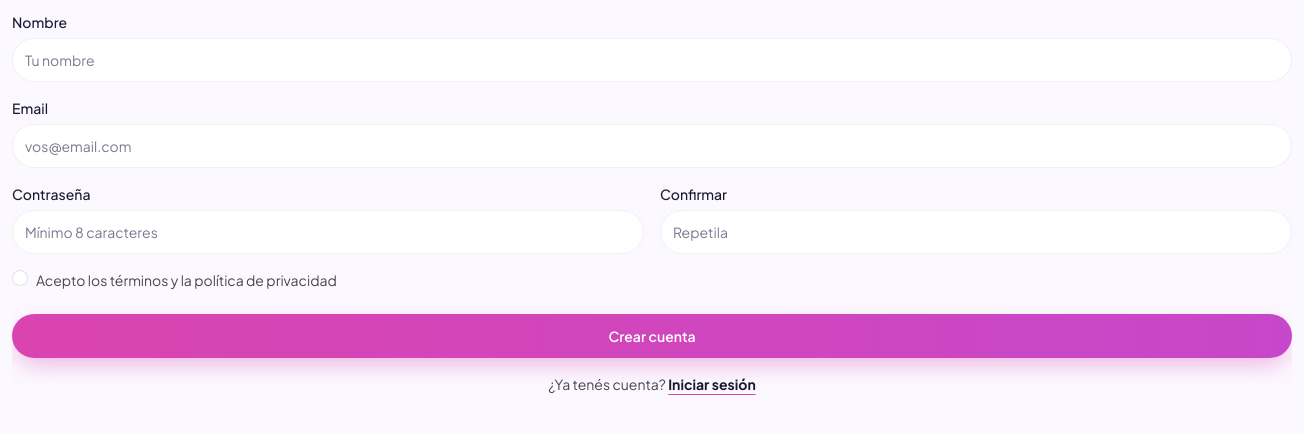
Scenario: RegisterForm › password y confirmPassword distintos muestran error
Type "Test User" into the field labelled "Nombre" at [652, 60], box [12,38,1292,82]
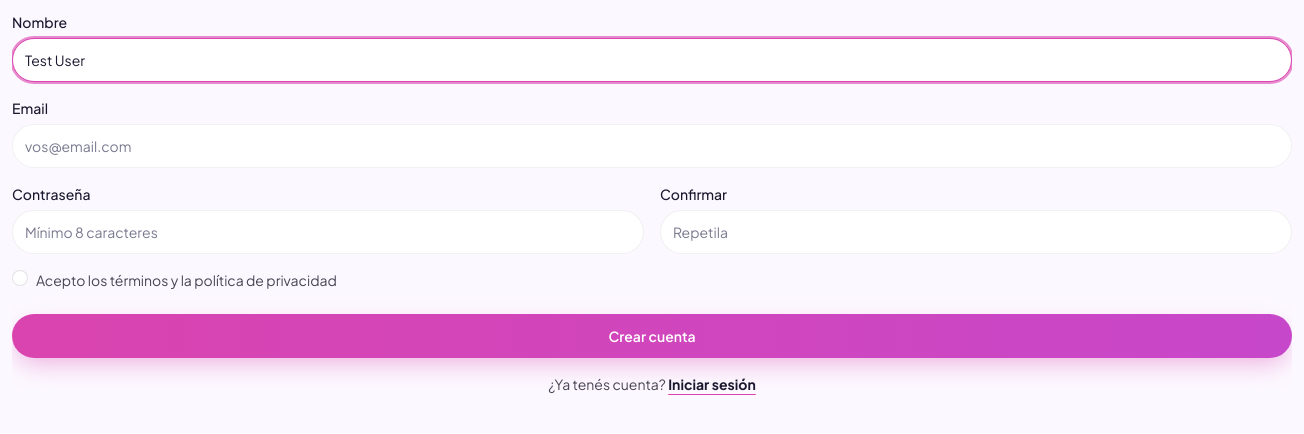
Type "test@sugarcoach.app" into the field labelled "Email" at [652, 146], box [12,124,1292,168]
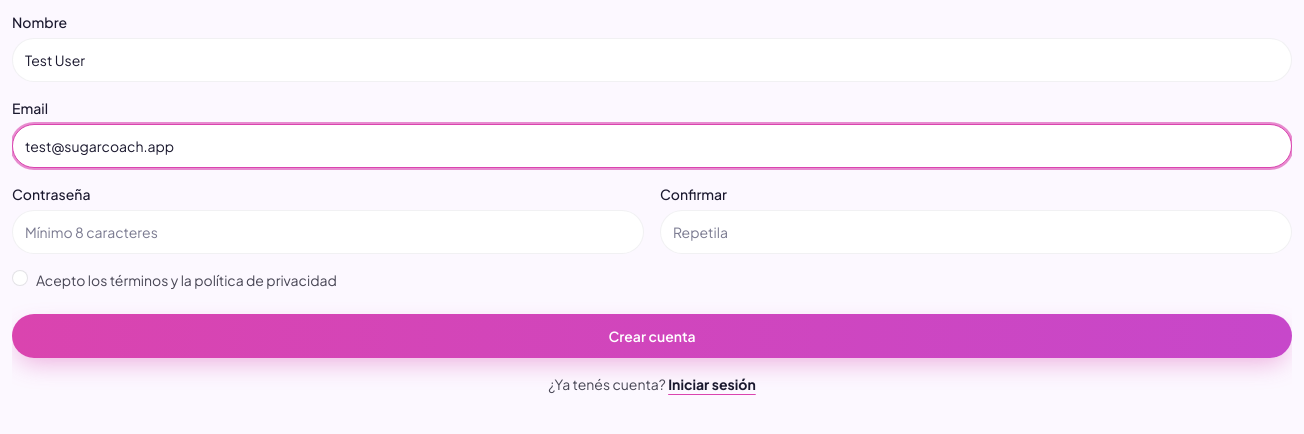
Type "password123" into the password field labelled "Contraseña" at [328, 232], box [12,210,644,254]
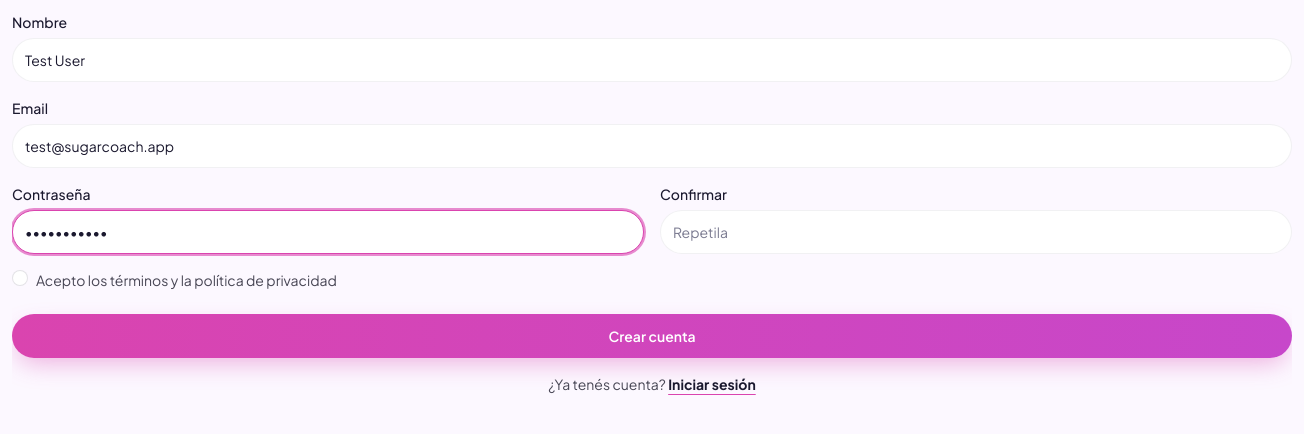
Type "otra-clave-123" into the password field labelled "Confirmar" at [976, 232], box [660,210,1292,254]
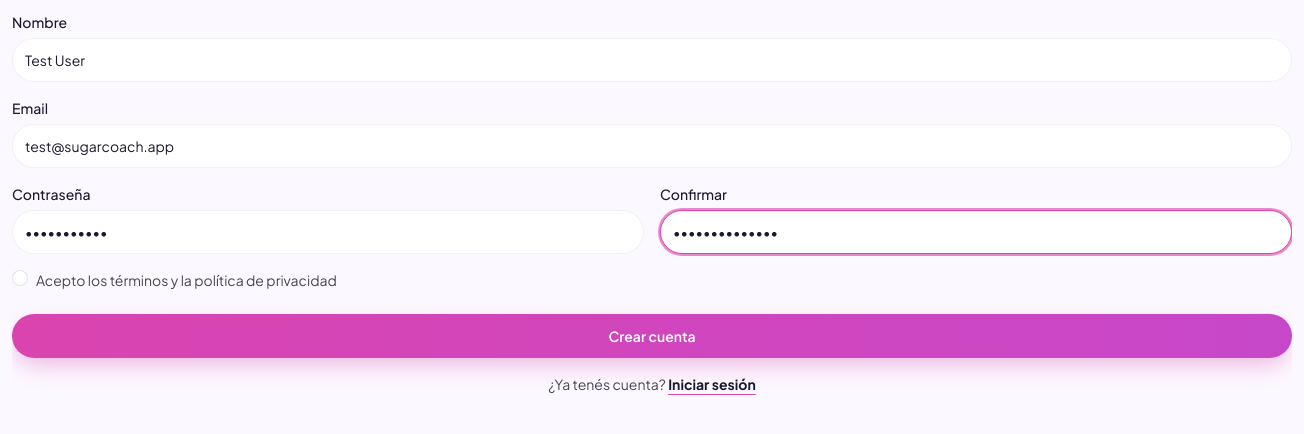
Click the checkbox at [20, 278], box [12,270,28,286]
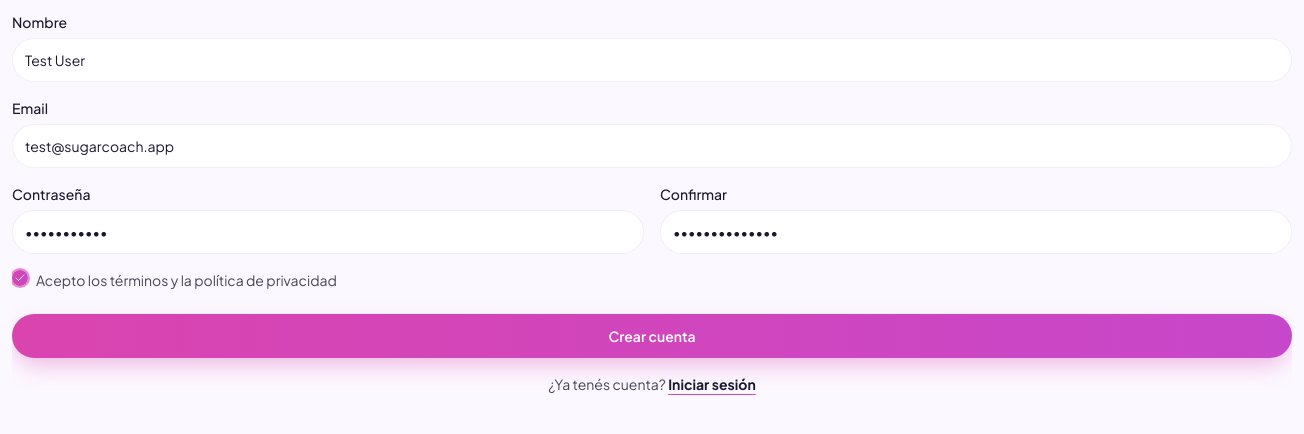
Click the button "Crear cuenta" at [652, 336], box [12,314,1292,358]
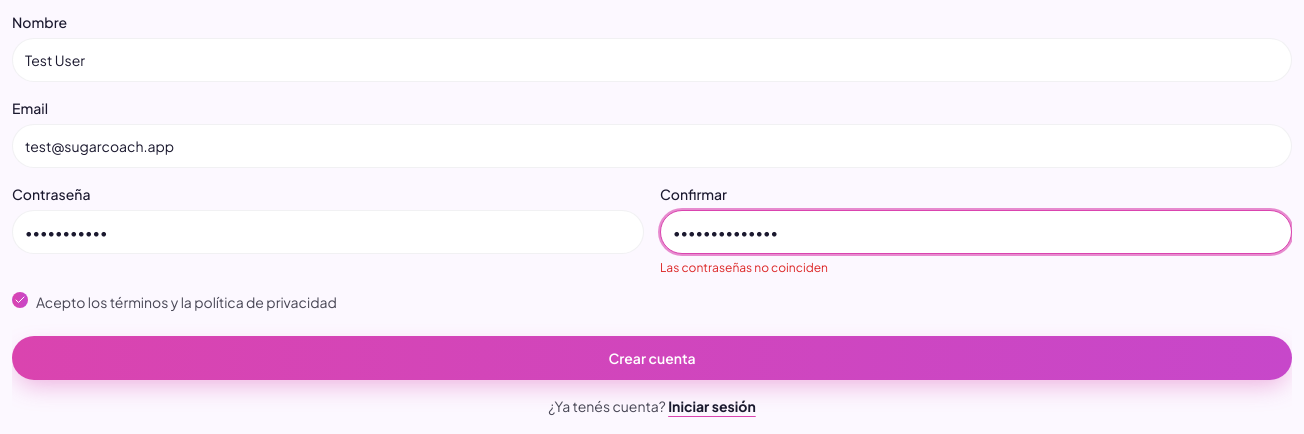
Result: the text "Las contraseñas no coinciden" is shown at [660,260,828,275]
